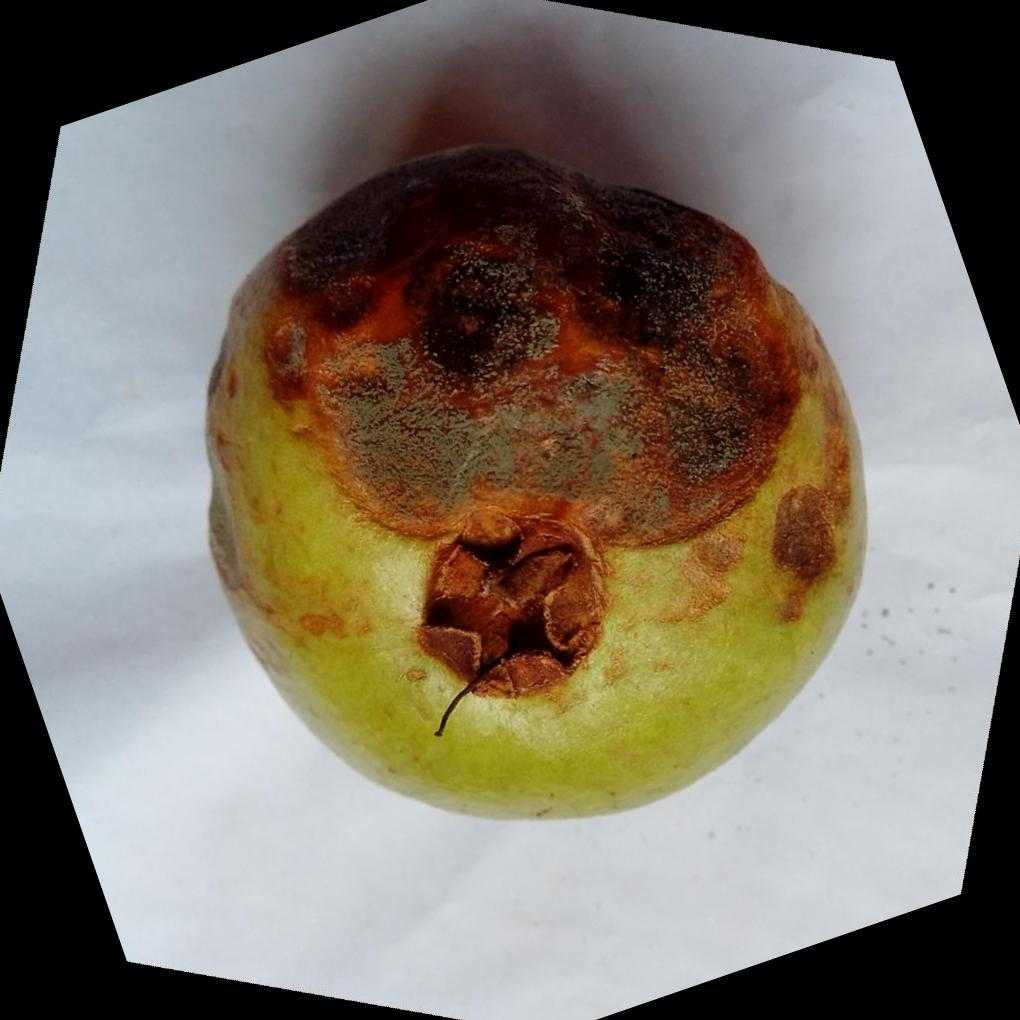FreshOrange: (200, 138, 869, 820)
